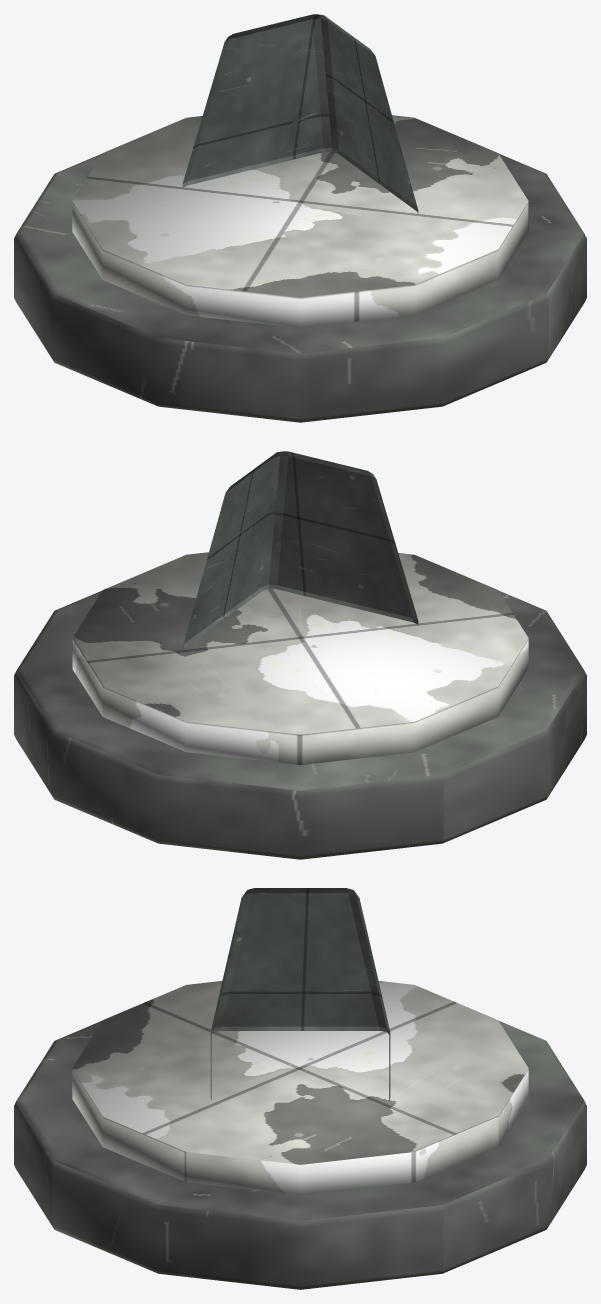
Rendered from machine_gun_turret_body.glb.
The picture shows the model from 3 angles, top to bottom: view 1: azimuth 30°, elevation 25°; view 2: azimuth 150°, elevation 25°; view 3: azimuth 270°, elevation 25°; orthographic projection.
Parts seen in each view (by area): view 1: machine_gun_turret_body_team_primary, machine_gun_turret_body_concrete_dark, machine_gun_turret_body_factory_metal; view 2: machine_gun_turret_body_team_primary, machine_gun_turret_body_concrete_dark, machine_gun_turret_body_factory_metal; view 3: machine_gun_turret_body_team_primary, machine_gun_turret_body_concrete_dark, machine_gun_turret_body_factory_metal.
Part boxes in pixels (<box>): machine_gun_turret_body_team_primary: <box>72,115,528,328</box>; machine_gun_turret_body_concrete_dark: <box>14,153,586,422</box>; machine_gun_turret_body_factory_metal: <box>182,14,418,213</box>; machine_gun_turret_body_team_primary: <box>72,552,528,765</box>; machine_gun_turret_body_concrete_dark: <box>14,590,586,859</box>; machine_gun_turret_body_factory_metal: <box>182,451,418,650</box>; machine_gun_turret_body_team_primary: <box>72,981,528,1195</box>; machine_gun_turret_body_concrete_dark: <box>14,1021,586,1289</box>; machine_gun_turret_body_factory_metal: <box>210,888,390,1100</box>.
Bounding box in the file's own units: 3 × 1.52 × 3.
Materials: 3 (3 with a texture image).
